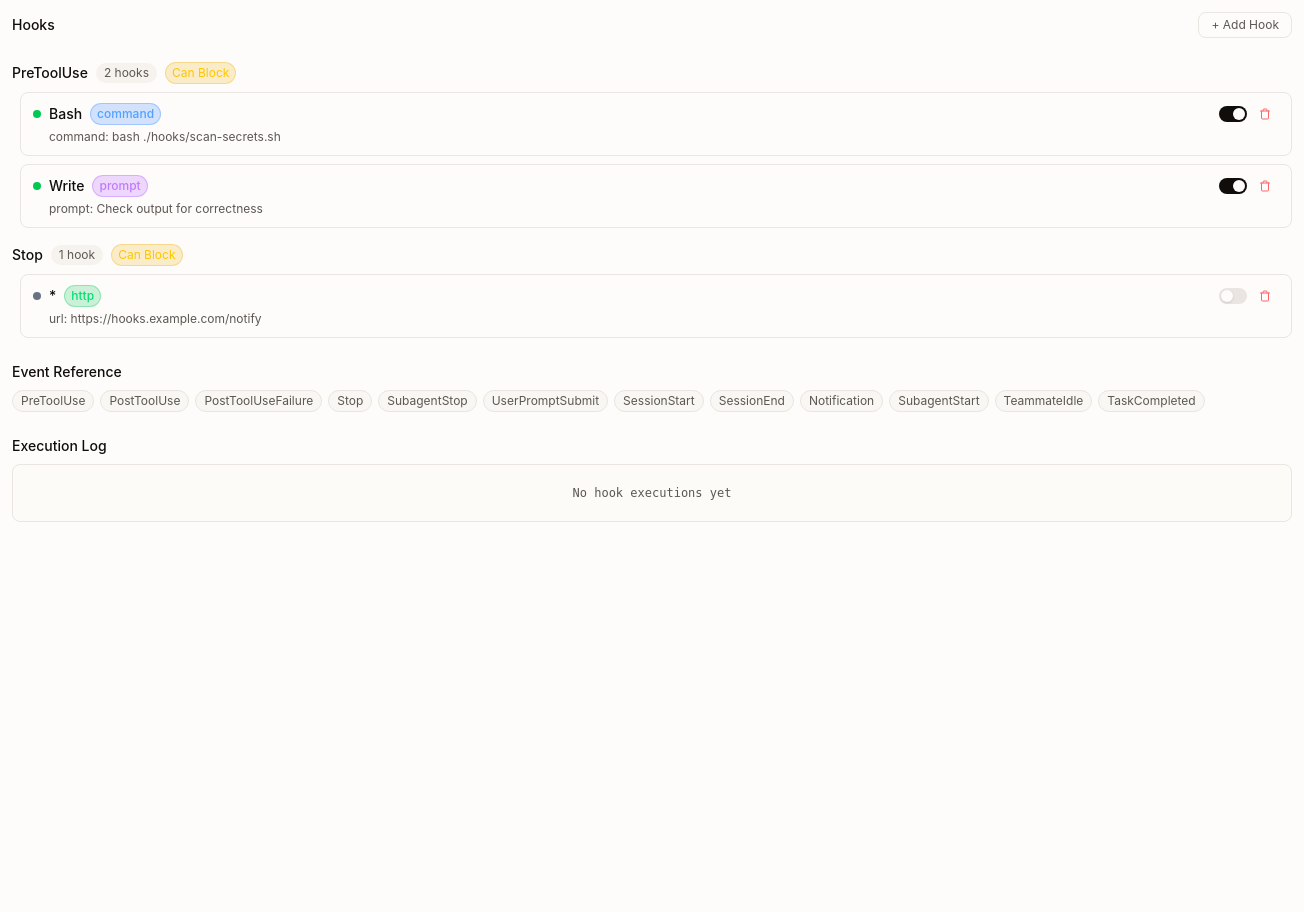
it: HooksPanel › add form hides matcher input for events that do not support it
Expected: the element with test id "hooks-panel" is shown, [12, 12, 1292, 522]
Click the button with test id "hooks-add-btn" at coordinates (1245, 25), box [1198, 12, 1292, 38]
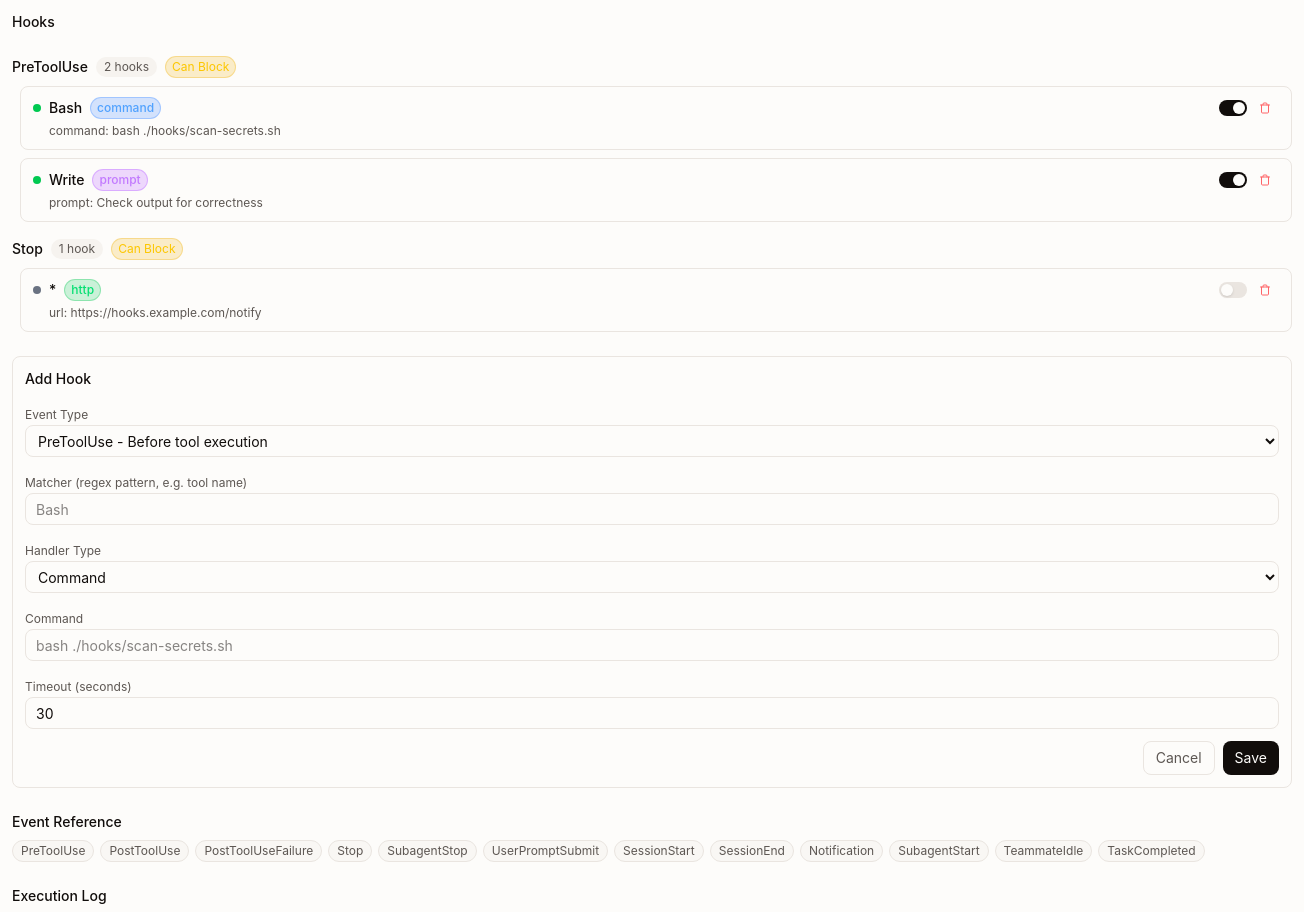
# Change to Stop which does NOT support matcher
Select "Stop - Claude finishes responding" in the dropdown with test id "hooks-add-event-select" at coordinates (652, 441), box [25, 425, 1279, 457]
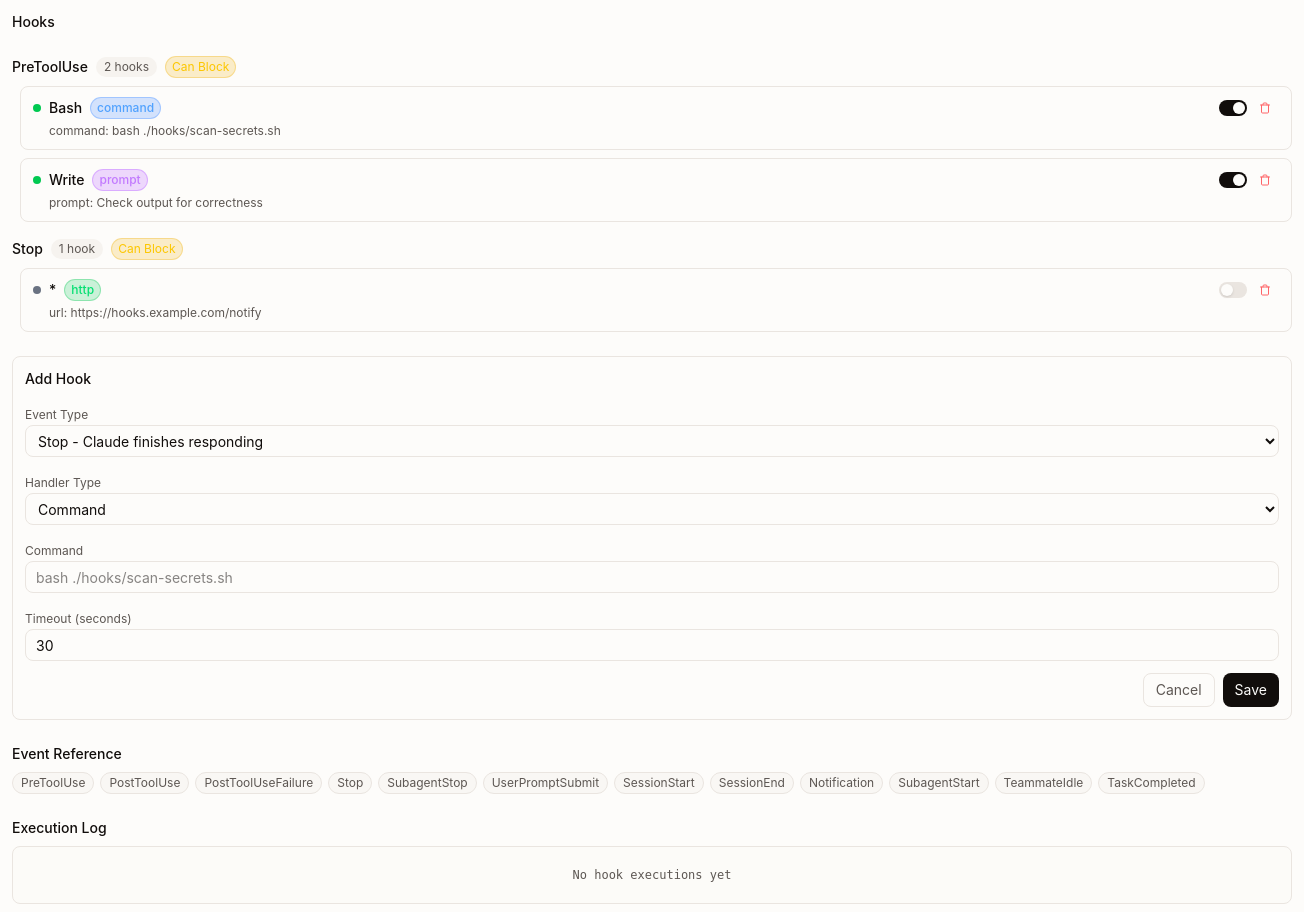
Expected: the field with test id "hooks-add-matcher-input" is gone
